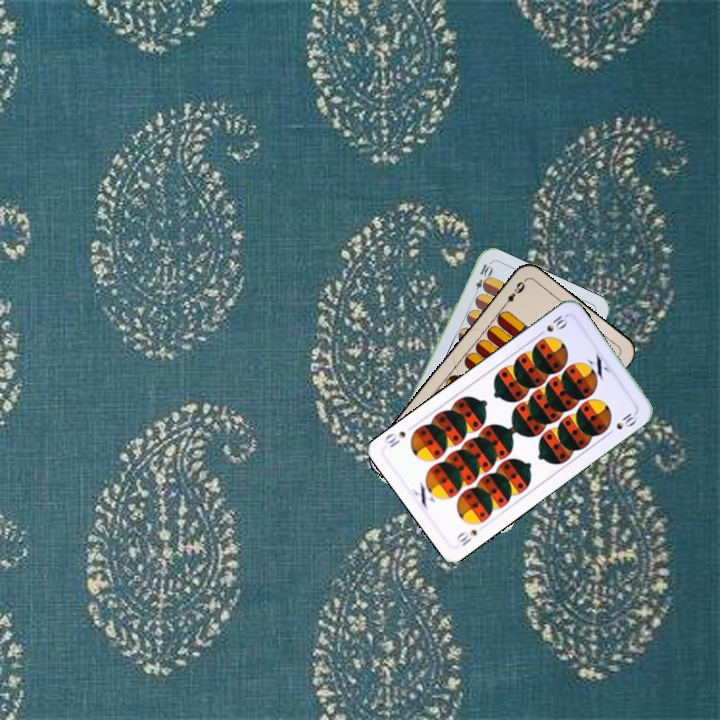E10: (470, 260, 494, 300)
E9: (498, 277, 528, 311)
S10: (533, 310, 571, 343), (453, 525, 480, 549)
